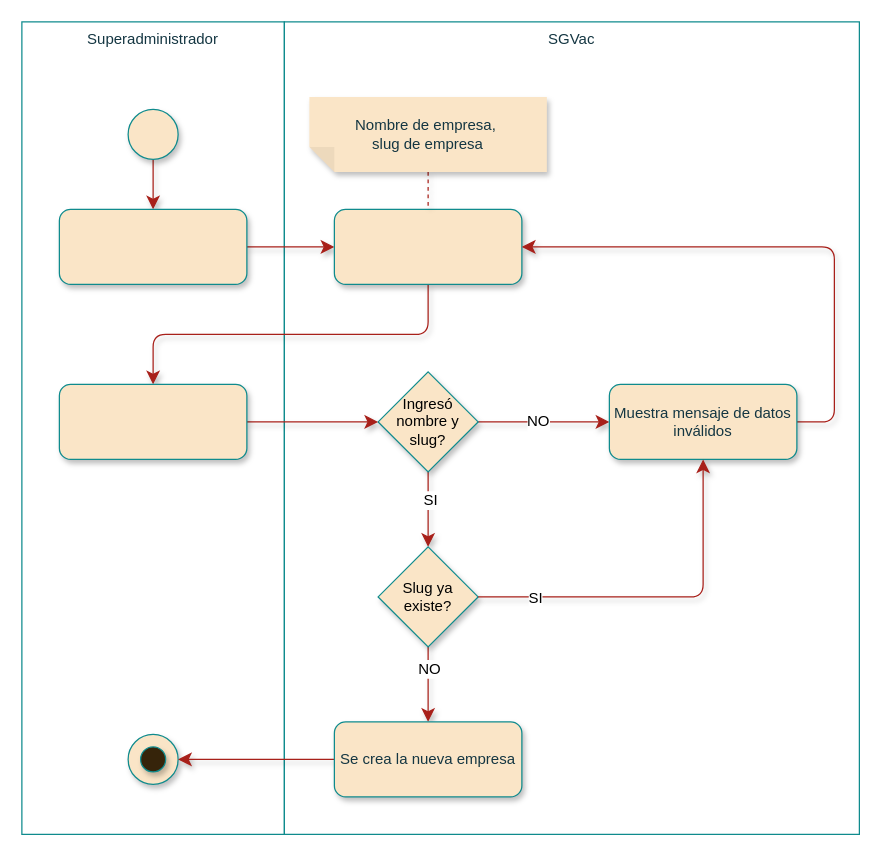
The diagram is 881 pixels wide and 856 high, and some of its shapes have lost their labels. Each missing label, with the centre of its shape:
"Elige la opción de crear una nueva empresa" goes at point (153, 248).
"Ingresa la información solicitada" goes at point (153, 423).
"Muestra un formulario" goes at point (428, 248).
